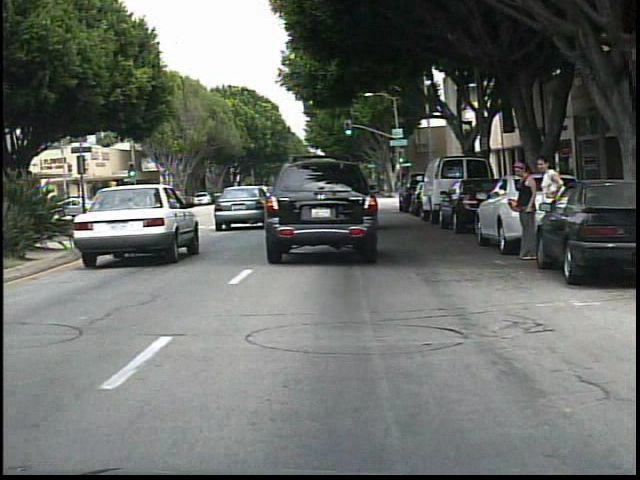person: (533, 153, 567, 257), (508, 161, 539, 266)
